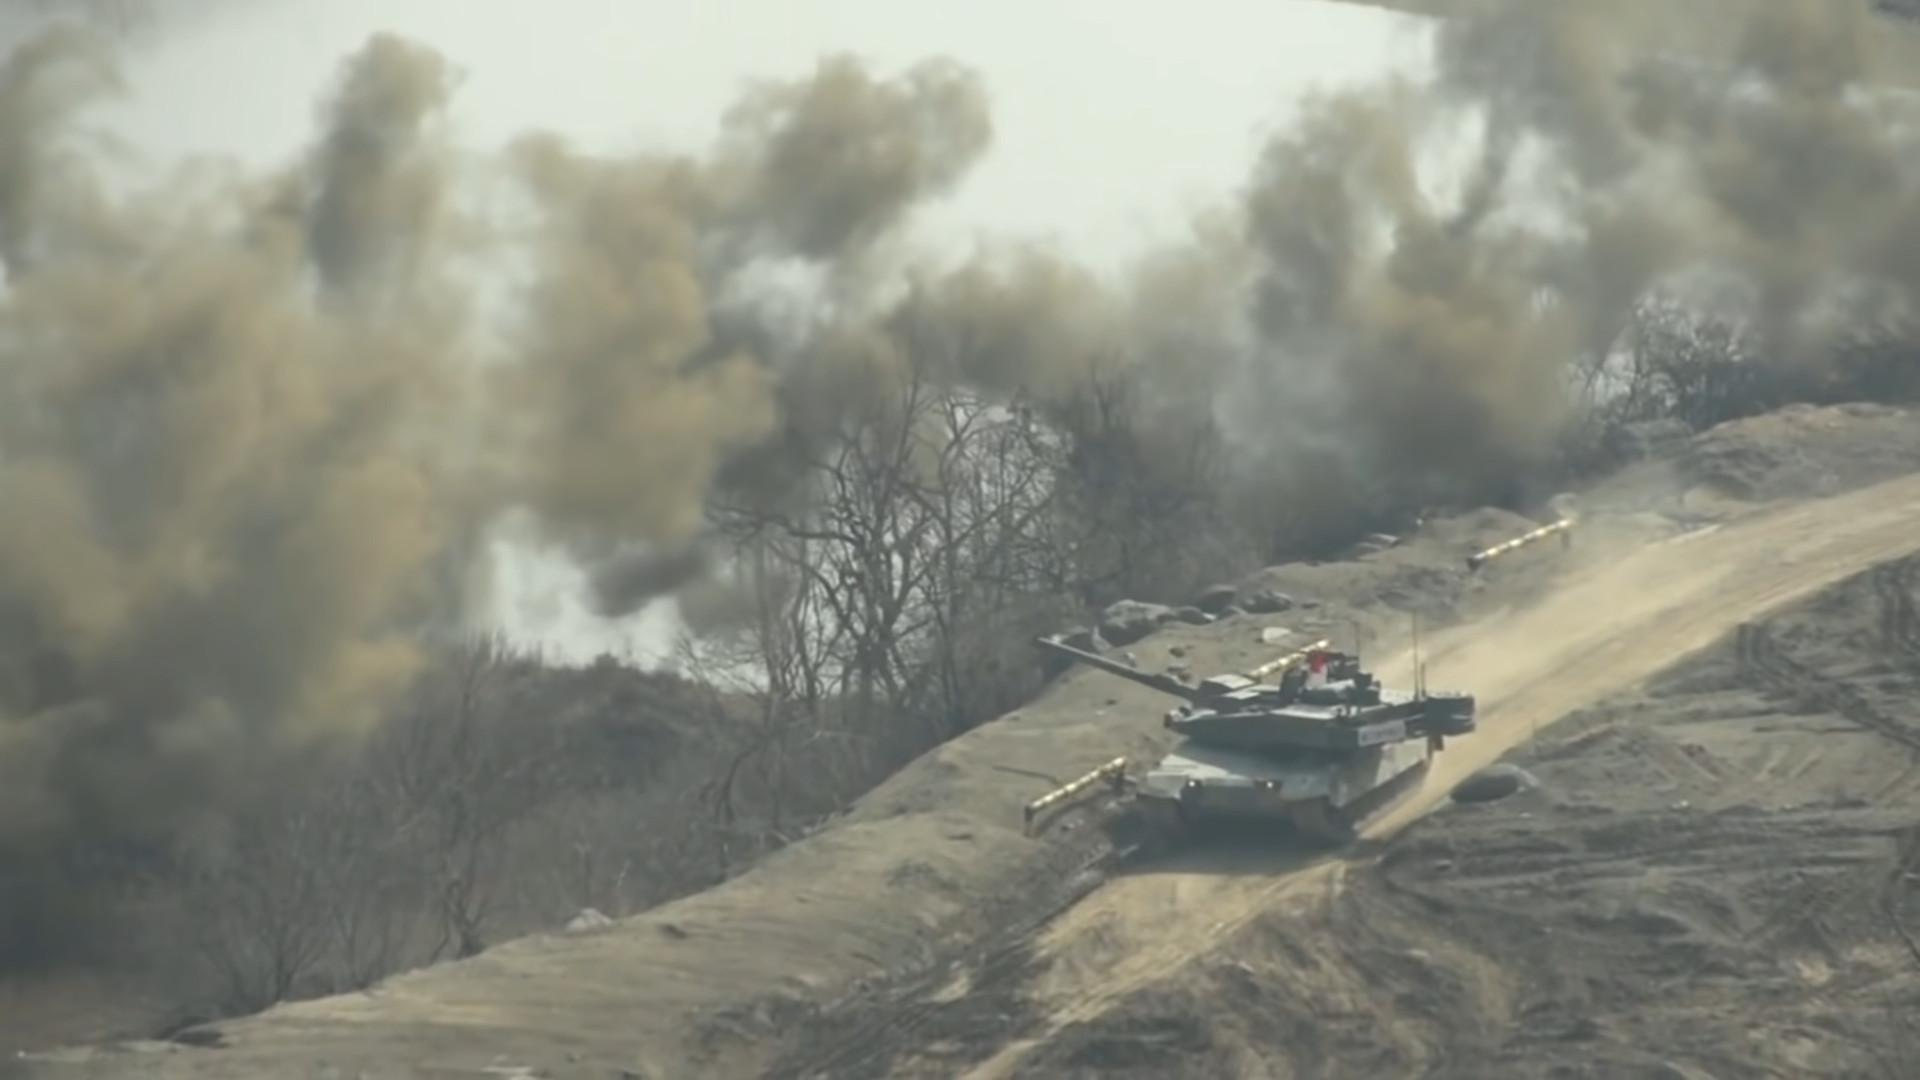tank: (1033, 637, 1477, 847)
